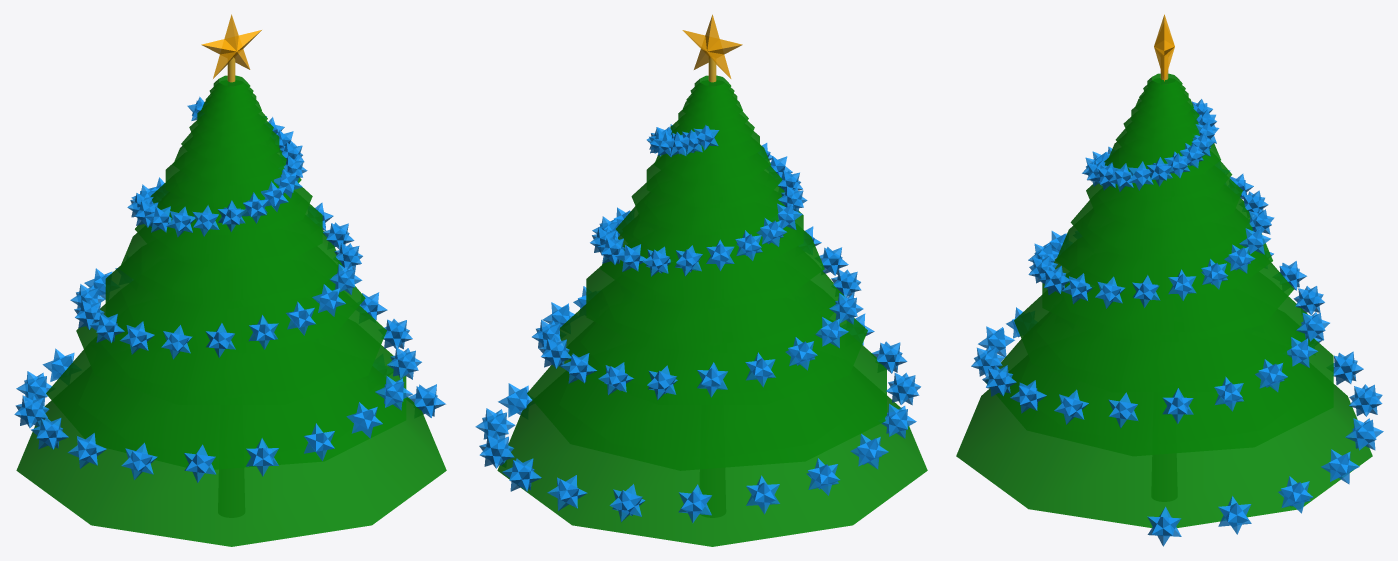
Rendered from fractaltreeb.glb.
The picture shows the model from 3 angles, left to right: view 1: azimuth 30°, elevation 25°; view 2: azimuth 150°, elevation 25°; view 3: azimuth 270°, elevation 25°; orthographic projection. The views are drawn at different scales.
Size of the model in its own units: 10.05 by 12.07 by 9.7.
